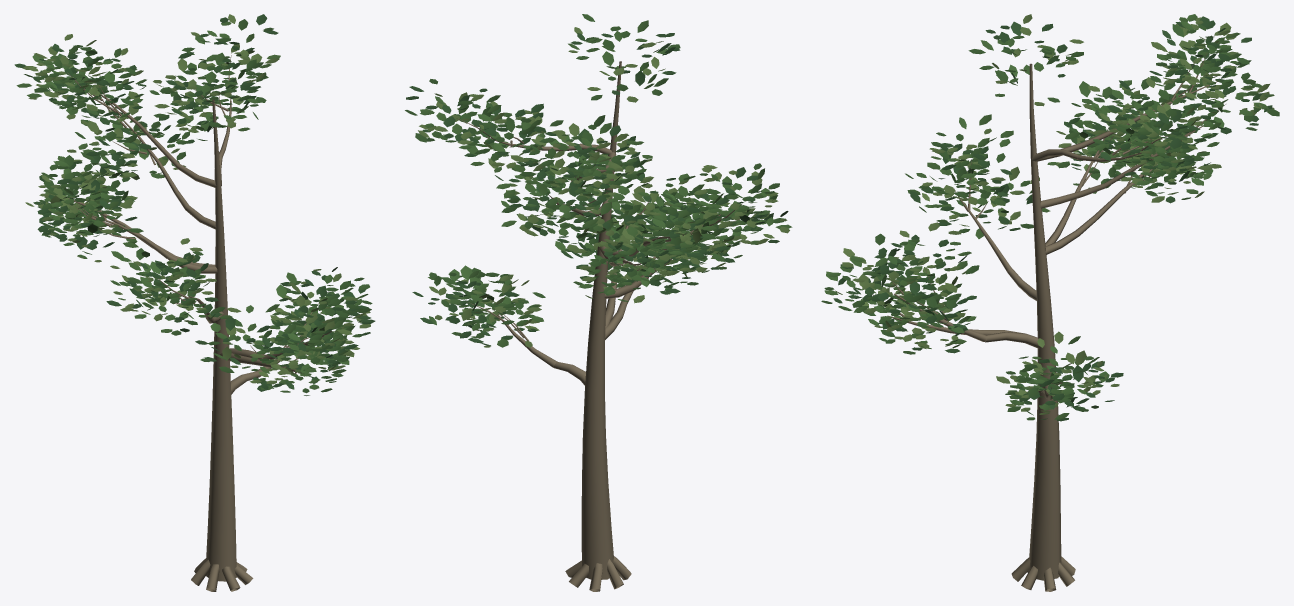
The model's file is Chene_Ancien_2_Low.fbx.
The picture shows the model from 3 angles, left to right: view 1: azimuth 30°, elevation 25°; view 2: azimuth 150°, elevation 25°; view 3: azimuth 270°, elevation 25°; orthographic projection. The views are drawn at different scales.
Visible parts, largest first — view 1: Chene_Ancien_2_Low; view 2: Chene_Ancien_2_Low; view 3: Chene_Ancien_2_Low.
Boxes of the visible parts, x1,y1,x2,y2 form: Chene_Ancien_2_Low: [14, 14, 375, 591]; Chene_Ancien_2_Low: [405, 14, 792, 591]; Chene_Ancien_2_Low: [821, 14, 1279, 591].
Bounding box in the file's own units: 700 × 1128 × 860.
